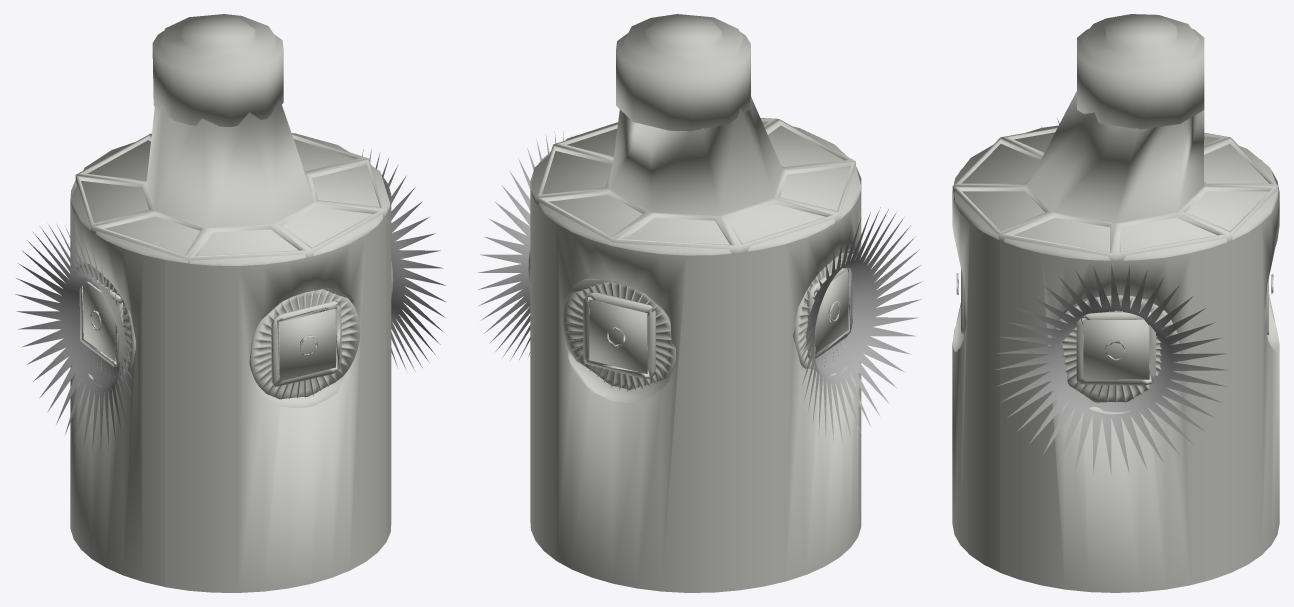
Rendered from iss-harmony.glb.
3 views of the same model, side by side, from view 1: azimuth 30°, elevation 25°; view 2: azimuth 150°, elevation 25°; view 3: azimuth 270°, elevation 25° (orthographic). The views are drawn at different scales.
Visible parts, largest first — view 1: harmony; view 2: harmony; view 3: harmony.
Boxes of the visible parts, x1,y1,x2,y2 form: harmony: (15, 14, 446, 592); harmony: (477, 14, 922, 592); harmony: (952, 14, 1279, 592).
Size of the model in its own units: 4.15 by 6.09 by 3.67.
Materials: 1 (1 with a texture image).
